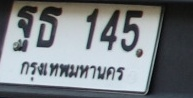txt12: (11, 5, 40, 53)
txt19: (35, 5, 64, 49)
